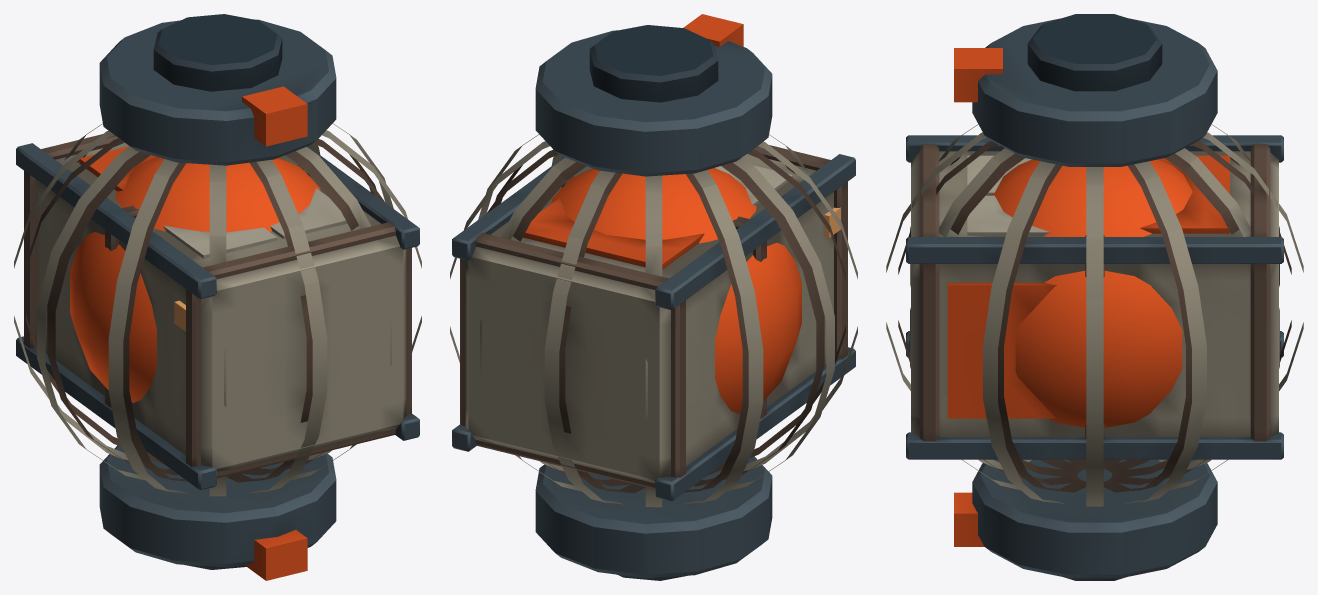
Rendered from salvage.glb.
3 renders of one model, left to right at view 1: azimuth 30°, elevation 25°; view 2: azimuth 150°, elevation 25°; view 3: azimuth 270°, elevation 25°, orthographic. The views are drawn at different scales.
Parts seen in each view (by area): view 1: core, crate; view 2: core, crate; view 3: core, crate.
Boxes of the visible parts, <box> form: core: <box>14,14,421,580</box>; crate: <box>16,134,419,490</box>; core: <box>450,14,857,580</box>; crate: <box>452,145,855,501</box>; core: <box>886,14,1303,580</box>; crate: <box>906,135,1283,459</box>.
Bounding box in the file's own units: 3.41 × 4.65 × 3.41.
